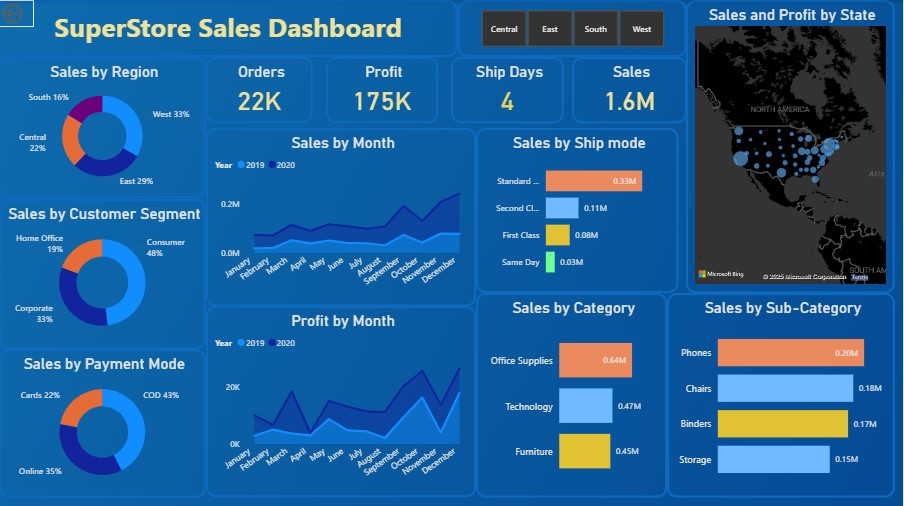

The page's visual inventory and layout, read from the dashboard file:
{"tool":"powerbi","page":{"name":"Page 1","canvas":[1280,720],"ordinal":0},"visuals":[{"type":"clusteredBarChart","title":"Sales by Category","fields":{"Category":["SuperStore_Sales_Dataset.Category"],"Y":["Sum(SuperStore_Sales_Dataset.Sales)"]},"box":[675.7,415.7,271.4,290],"z":0},{"type":"clusteredBarChart","title":"Sales by Sub-Category","fields":{"Category":["SuperStore_Sales_Dataset.Sub-Category"],"Y":["Sum(SuperStore_Sales_Dataset.Sales)"]},"box":[947.1,415.7,322.9,290],"z":1000},{"type":"clusteredBarChart","title":"Sales by Ship mode","fields":{"Y":["Sum(SuperStore_Sales_Dataset.Sales)"],"Category":["SuperStore_Sales_Dataset.Ship Mode"]},"box":[675.7,181.4,287.1,234.3],"z":2000},{"type":"stackedAreaChart","title":"Sales by Month","fields":{"Y":["Sum(SuperStore_Sales_Dataset.Sales)"],"Category":["SuperStore_Sales_Dataset.Order Date.Variation.Date Hierarchy.Month","SuperStore_Sales_Dataset.Order Date.Variation.Date Hierarchy.Day"],"Series":["SuperStore_Sales_Dataset.Order Date.Variation.Date Hierarchy.Year"]},"box":[292.9,181.4,382.9,252.9],"z":3000},{"type":"stackedAreaChart","title":"Profit by Month","fields":{"Category":["SuperStore_Sales_Dataset.Order Date.Variation.Date Hierarchy.Month","SuperStore_Sales_Dataset.Order Date.Variation.Date Hierarchy.Day"],"Series":["SuperStore_Sales_Dataset.Order Date.Variation.Date Hierarchy.Year"],"Y":["Sum(SuperStore_Sales_Dataset.Profit)"]},"box":[292.9,434.3,382.9,271.4],"z":4000},{"type":"map","title":"Sales and Profit by State","fields":{"Category":["SuperStore_Sales_Dataset.State"],"Size":["Sum(SuperStore_Sales_Dataset.Sales)"]},"box":[974.3,0,295.7,415.7],"z":5000},{"type":"donutChart","title":"Sales by Customer Segment","fields":{"Category":["SuperStore_Sales_Dataset.Segment"],"Y":["Sum(SuperStore_Sales_Dataset.Sales)"]},"box":[0,281.4,292.9,212.9],"z":6000},{"type":"donutChart","title":"Sales by Region","fields":{"Category":["SuperStore_Sales_Dataset.Region"],"Y":["Sum(SuperStore_Sales_Dataset.Sales)"]},"box":[0,81.4,292.9,200],"z":7000},{"type":"donutChart","title":"Sales by Payment Mode","fields":{"Category":["SuperStore_Sales_Dataset.Payment Mode"],"Y":["Sum(SuperStore_Sales_Dataset.Sales)"]},"box":[0,494.3,292.9,211.4],"z":8000},{"type":"slicer","fields":{"Values":["SuperStore_Sales_Dataset.Region"]},"box":[650,0,324.3,81.4],"z":9000},{"type":"textbox","box":[0,0,650,81.4],"z":10000},{"type":"card","title":"Sales","fields":{"Values":["Sum(SuperStore_Sales_Dataset.Sales)"]},"box":[811.4,81.4,162.9,94.3],"z":11000},{"type":"card","title":"Profit","fields":{"Values":["Sum(SuperStore_Sales_Dataset.Profit)"]},"box":[462.9,81.4,158.6,94.3],"z":12000},{"type":"card","title":"Ship Days","fields":{"Values":["Avg(SuperStore_Sales_Dataset.AvgDelivery)"]},"box":[640,81.4,160,94.3],"z":13000},{"type":"card","title":"Orders","fields":{"Values":["Sum(SuperStore_Sales_Dataset.Quantity)"]},"box":[292.9,81.4,151.4,94.3],"z":14000},{"type":"actionButton","box":[0,0,50,38.6],"z":15000}]}

Visuals, with their boxes in screenshot pixels (x1, y1, x2, y2), scaled from the page's 1280x720 canvas onto the 904x506 screenshot:
"Sales by Category" clusteredBarChart: [x1=477, y1=292, x2=669, y2=496]
"Sales by Sub-Category" clusteredBarChart: [x1=669, y1=292, x2=897, y2=496]
"Sales by Ship mode" clusteredBarChart: [x1=477, y1=127, x2=680, y2=292]
"Sales by Month" stackedAreaChart: [x1=207, y1=127, x2=477, y2=305]
"Profit by Month" stackedAreaChart: [x1=207, y1=305, x2=477, y2=496]
"Sales and Profit by State" map: [x1=688, y1=0, x2=897, y2=292]
"Sales by Customer Segment" donutChart: [x1=0, y1=198, x2=207, y2=347]
"Sales by Region" donutChart: [x1=0, y1=57, x2=207, y2=198]
"Sales by Payment Mode" donutChart: [x1=0, y1=347, x2=207, y2=496]
slicer - SuperStore_Sales_Dataset.Region: [x1=459, y1=0, x2=688, y2=57]
textbox: [x1=0, y1=0, x2=459, y2=57]
"Sales" card: [x1=573, y1=57, x2=688, y2=123]
"Profit" card: [x1=327, y1=57, x2=439, y2=123]
"Ship Days" card: [x1=452, y1=57, x2=565, y2=123]
"Orders" card: [x1=207, y1=57, x2=314, y2=123]
actionButton: [x1=0, y1=0, x2=35, y2=27]
